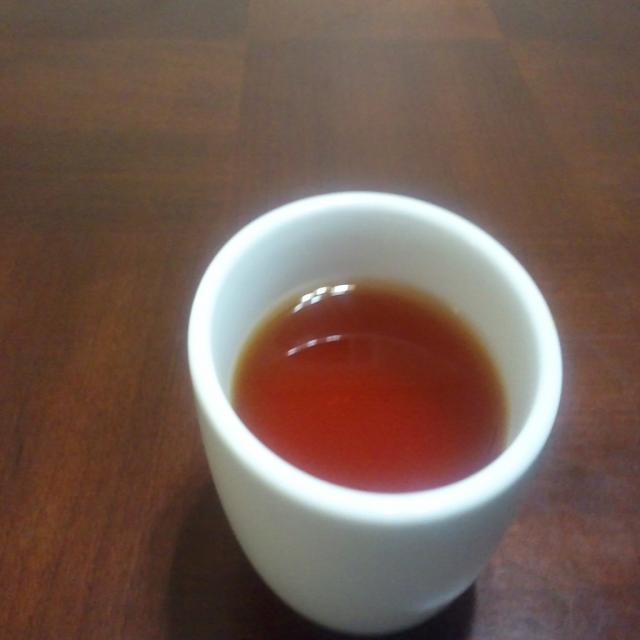Tea: (232, 282, 506, 496)
